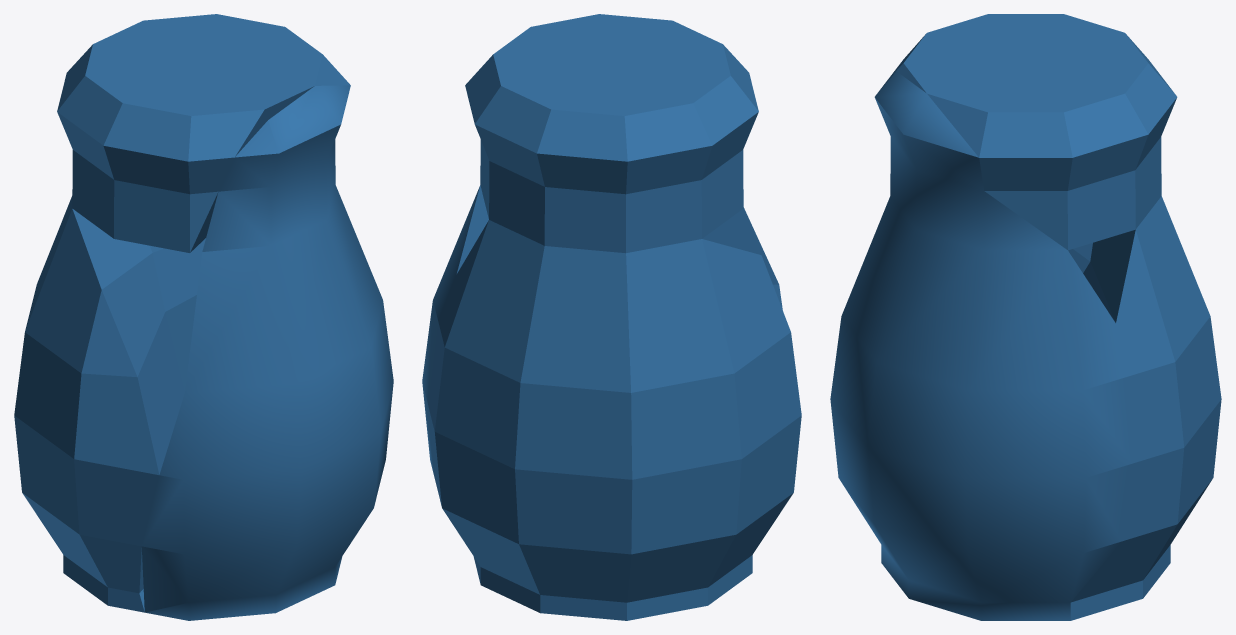
File: Salero01Roto.fbx
3 renders of one model, left to right at view 1: azimuth 30°, elevation 25°; view 2: azimuth 150°, elevation 25°; view 3: azimuth 270°, elevation 25°, orthographic.
Parts seen in each view (by area): view 1: Saler02, Saler04, Saler03; view 2: Saler04, Saler03, Saler02; view 3: Saler02, Saler03, Saler04.
Part boxes in pixels (x1=…): Saler02: x1=141, y1=85, x2=393, y2=620; Saler04: x1=14, y1=196, x2=205, y2=612; Saler03: x1=57, y1=14, x2=350, y2=252; Saler04: x1=428, y1=220, x2=801, y2=620; Saler03: x1=465, y1=14, x2=758, y2=253; Saler02: x1=422, y1=185, x2=782, y2=477; Saler02: x1=830, y1=71, x2=1131, y2=620; Saler03: x1=889, y1=14, x2=1177, y2=250; Saler04: x1=1068, y1=196, x2=1221, y2=620.
Bounding box in the file's own units: 0.0931 × 0.1379 × 0.0979.
